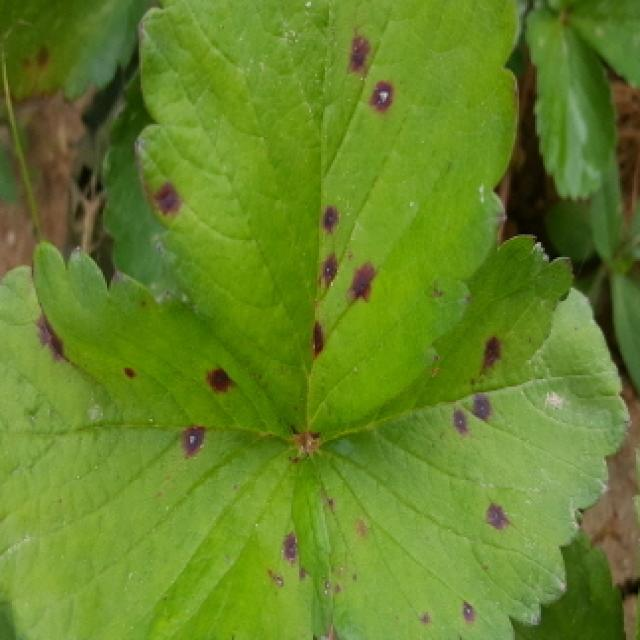Leaf Spot: (131, 0, 520, 436), (304, 228, 634, 640), (0, 242, 334, 640)
